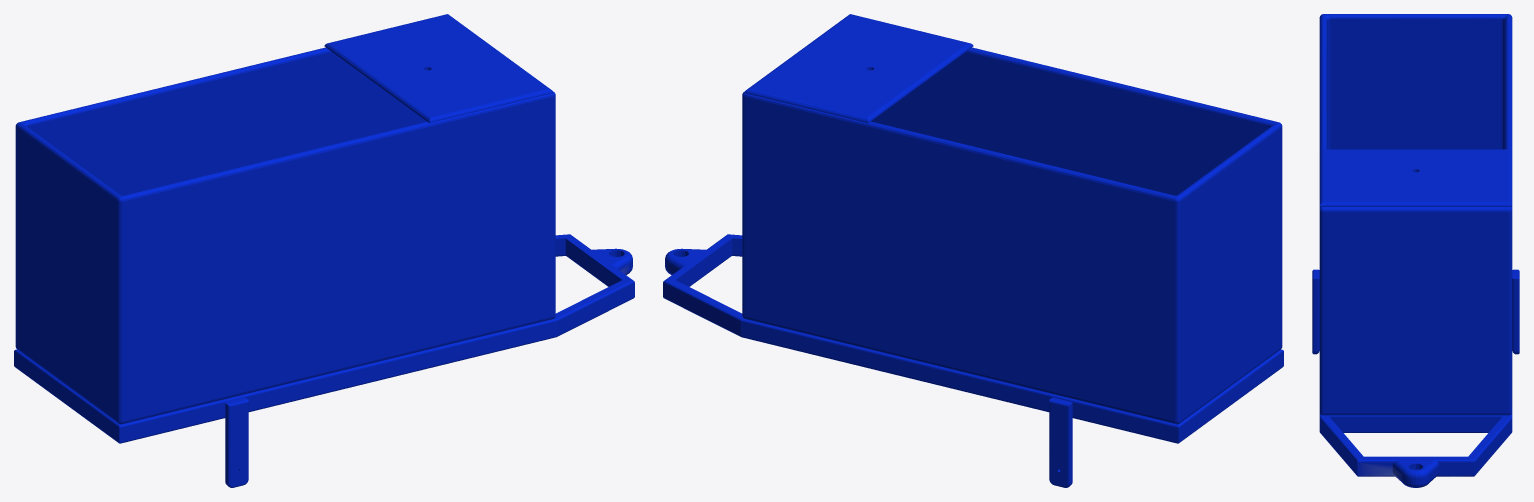
The picture shows the model from 3 angles, left to right: view 1: azimuth 30°, elevation 25°; view 2: azimuth 150°, elevation 25°; view 3: azimuth 270°, elevation 25°; orthographic projection. The views are drawn at different scales.
Parts seen in each view (by area): view 1: Base Link; view 2: Base Link; view 3: Base Link.
Part boxes in pixels (x1=…): Base Link: x1=14, y1=14, x2=634, y2=487; Base Link: x1=663, y1=14, x2=1283, y2=487; Base Link: x1=1312, y1=14, x2=1519, y2=487.
Bounding box in the file's own units: 1.61 × 0.56 × 0.865.
